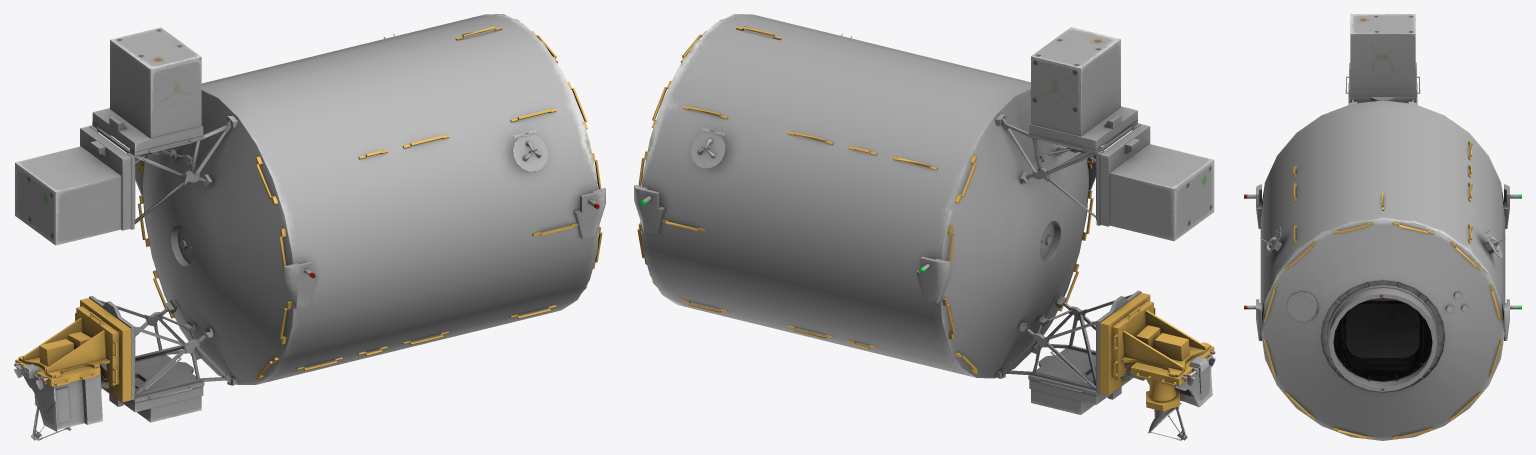
File: IssModule_A.FBX
3 views of the same model, side by side, from view 1: azimuth 30°, elevation 25°; view 2: azimuth 150°, elevation 25°; view 3: azimuth 270°, elevation 25° (orthographic). The views are drawn at different scales.
Visible parts, largest first — view 1: IssModule_A; view 2: IssModule_A; view 3: IssModule_A.
Boxes of the visible parts, left/top/right/bottom form: IssModule_A: left=14, top=14, right=605, bottom=440; IssModule_A: left=634, top=14, right=1215, bottom=440; IssModule_A: left=1244, top=14, right=1521, bottom=440.
Bounding box in the file's own units: 503 × 333 × 285.
